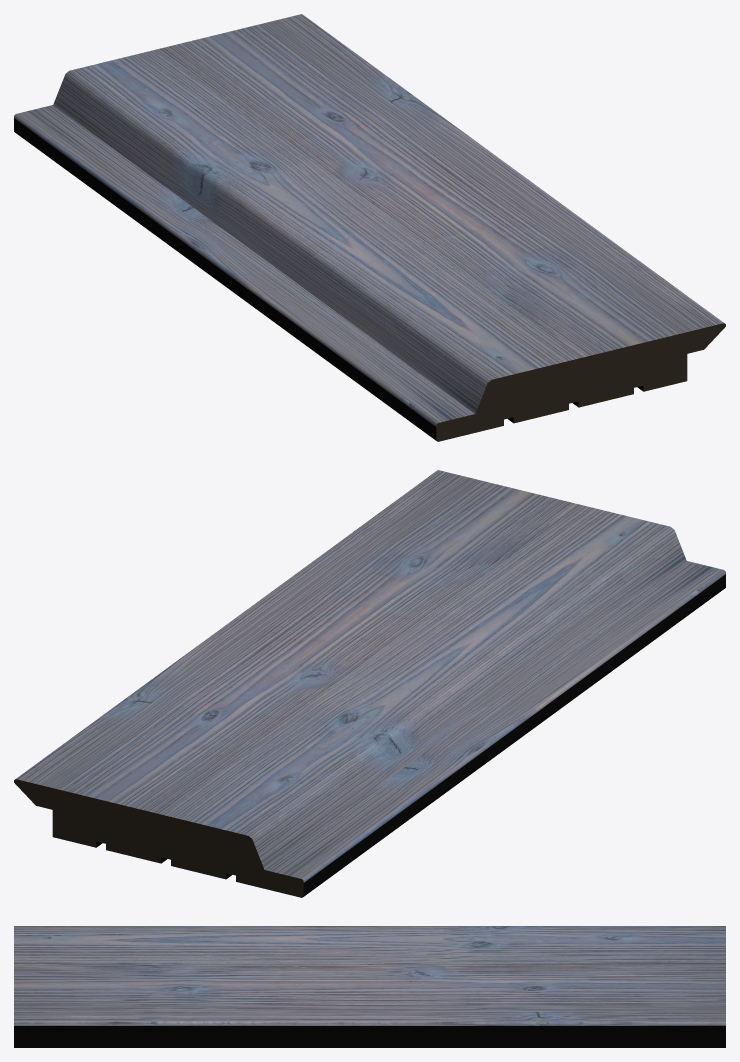
File: spruce-facade-half-tongue-45-latte.glb
3 views of the same model, one above another, from view 1: azimuth 30°, elevation 25°; view 2: azimuth 150°, elevation 25°; view 3: azimuth 270°, elevation 25° (orthographic). The views are drawn at different scales.
Visible parts, largest first — view 1: Pusė_Špunto_45; view 2: Pusė_Špunto_45; view 3: Pusė_Špunto_45.
Boxes of the visible parts, <box> form: Pusė_Špunto_45: <box>14,14,725,441</box>; Pusė_Špunto_45: <box>14,470,725,897</box>; Pusė_Špunto_45: <box>14,926,725,1047</box>.
Size of the model in its own units: 0.0723 by 0.0117 by 0.1826.
Materials: 3 (1 with a texture image).
